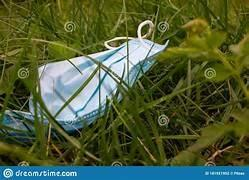Mask: (38, 21, 167, 131)
